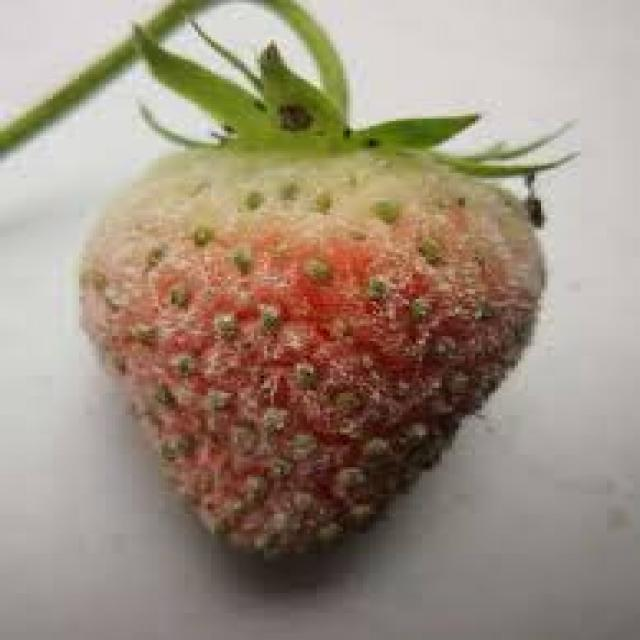Oído: (73, 112, 561, 576)
